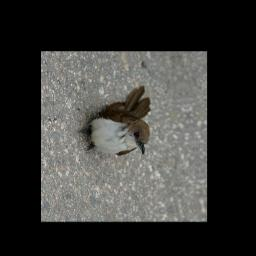Cuckoo: (68, 85, 162, 163)
